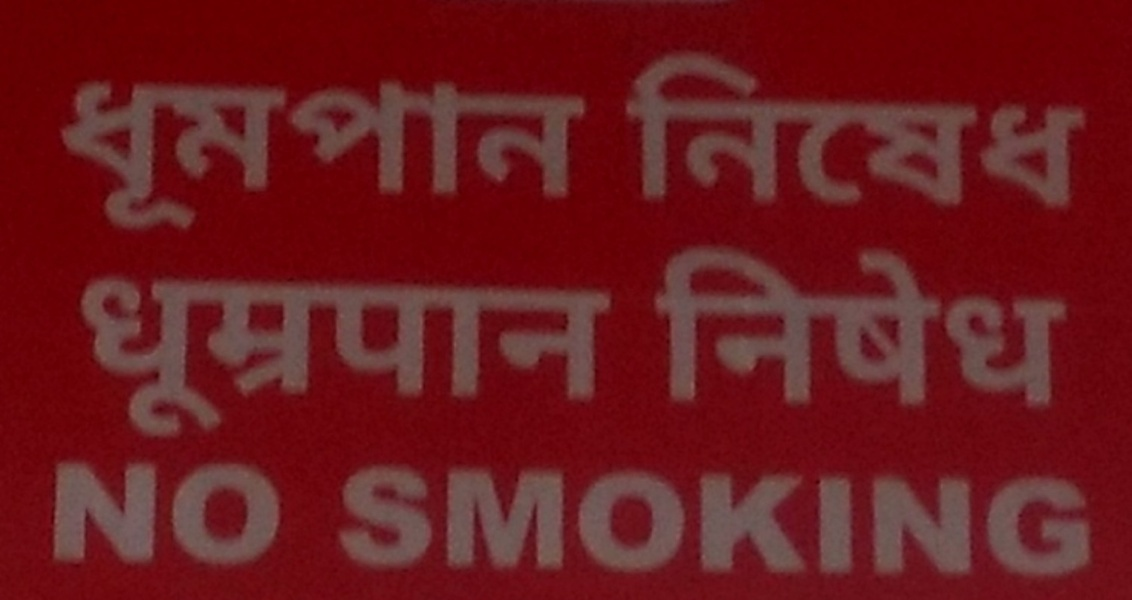text: (1057, 237, 1073, 415), (81, 266, 96, 450), (97, 266, 112, 450), (113, 266, 128, 450), (129, 266, 144, 450), (145, 266, 160, 450), (161, 266, 176, 450), (177, 266, 192, 450), (193, 266, 208, 450), (209, 266, 224, 450), (225, 266, 240, 450), (241, 266, 256, 450), (257, 266, 272, 450), (273, 266, 288, 450), (289, 266, 304, 450), (305, 266, 320, 450), (321, 266, 336, 450), (337, 266, 352, 450), (353, 266, 368, 450), (369, 266, 384, 450), (385, 266, 400, 450), (401, 266, 416, 450), (417, 266, 432, 450), (433, 266, 448, 450), (449, 266, 464, 450), (465, 266, 480, 450), (481, 266, 496, 450), (497, 266, 512, 450), (513, 266, 528, 450), (529, 266, 544, 450), (545, 266, 560, 450), (561, 266, 576, 450), (577, 266, 592, 450), (593, 266, 608, 450), (577, 71, 593, 238), (657, 237, 672, 415), (673, 237, 688, 415), (689, 237, 704, 415), (705, 237, 720, 415), (721, 237, 736, 415), (737, 237, 752, 415), (753, 237, 768, 415), (769, 237, 784, 415), (785, 237, 800, 415), (801, 237, 816, 415), (817, 237, 832, 415), (833, 237, 848, 415), (849, 237, 864, 415), (865, 237, 880, 415), (881, 237, 896, 415), (897, 237, 912, 415), (913, 237, 928, 415), (929, 237, 944, 415), (945, 237, 960, 415), (961, 237, 976, 415), (977, 237, 992, 415), (993, 237, 1008, 415), (1009, 237, 1024, 415), (1025, 237, 1040, 415), (1041, 237, 1056, 415), (625, 42, 640, 219), (641, 42, 656, 219), (657, 42, 672, 219), (673, 42, 688, 219), (689, 42, 704, 219), (705, 42, 720, 219), (721, 42, 736, 219), (737, 42, 752, 219), (753, 42, 768, 219), (769, 42, 784, 219), (785, 42, 800, 219), (801, 42, 816, 219), (817, 42, 832, 219), (833, 42, 848, 219), (849, 42, 864, 219), (865, 42, 880, 219), (881, 42, 896, 219), (897, 42, 912, 219), (913, 42, 928, 219), (929, 42, 944, 219), (945, 42, 960, 219), (961, 42, 976, 219), (977, 42, 992, 219), (993, 42, 1008, 219), (1009, 42, 1024, 219), (1025, 42, 1040, 219), (1041, 42, 1056, 219), (1057, 42, 1072, 219), (1073, 42, 1088, 219), (65, 71, 80, 238), (81, 71, 96, 238), (97, 71, 112, 238), (113, 71, 128, 238), (129, 71, 144, 238), (145, 71, 160, 238), (161, 71, 176, 238), (177, 71, 192, 238), (193, 71, 208, 238), (209, 71, 224, 238), (225, 71, 240, 238), (241, 71, 256, 238), (257, 71, 272, 238), (273, 71, 288, 238), (289, 71, 304, 238), (305, 71, 320, 238), (321, 71, 336, 238), (337, 71, 352, 238), (353, 71, 368, 238), (369, 71, 384, 238), (385, 71, 400, 238), (401, 71, 416, 238), (417, 71, 432, 238), (433, 71, 448, 238), (449, 71, 464, 238), (465, 71, 480, 238), (481, 71, 496, 238), (497, 71, 512, 238), (513, 71, 528, 238), (529, 71, 544, 238), (545, 71, 560, 238), (561, 71, 576, 238), (609, 266, 622, 450), (68, 266, 80, 450), (273, 445, 289, 575), (49, 445, 64, 575), (65, 445, 80, 575), (81, 445, 96, 575), (97, 445, 112, 575), (113, 445, 128, 575), (129, 445, 144, 575), (145, 445, 160, 575), (161, 445, 176, 575), (177, 445, 192, 575), (193, 445, 208, 575), (209, 445, 224, 575), (225, 445, 240, 575), (241, 445, 256, 575), (257, 445, 272, 575), (337, 452, 352, 582), (353, 452, 368, 582), (369, 452, 384, 582), (385, 452, 400, 582), (401, 452, 416, 582), (417, 452, 432, 582), (433, 452, 448, 582), (449, 452, 464, 582), (465, 452, 480, 582), (481, 452, 496, 582), (497, 452, 512, 582), (513, 452, 528, 582), (529, 452, 544, 582), (545, 452, 560, 582), (561, 452, 576, 582), (577, 452, 592, 582), (593, 452, 608, 582), (609, 452, 624, 582), (625, 452, 640, 582), (641, 452, 656, 582), (657, 452, 672, 582), (673, 452, 688, 582), (689, 452, 704, 582), (705, 452, 720, 582), (721, 452, 736, 582), (737, 452, 752, 582), (753, 452, 768, 582), (769, 452, 784, 582), (785, 452, 800, 582), (801, 452, 816, 582), (817, 452, 832, 582), (833, 452, 848, 582), (849, 452, 864, 582), (865, 452, 880, 582), (881, 452, 896, 582), (897, 452, 912, 582), (913, 452, 928, 582), (929, 452, 944, 582), (945, 452, 960, 582), (961, 452, 976, 582), (977, 452, 992, 582), (993, 452, 1008, 582), (1009, 452, 1024, 582), (1025, 452, 1040, 582), (1041, 452, 1056, 582), (1057, 452, 1072, 582), (1073, 452, 1088, 582), (1089, 452, 1103, 582), (646, 237, 656, 415), (56, 71, 64, 238), (329, 452, 336, 582), (1089, 42, 1092, 219), (623, 42, 624, 219), (47, 445, 48, 575)
